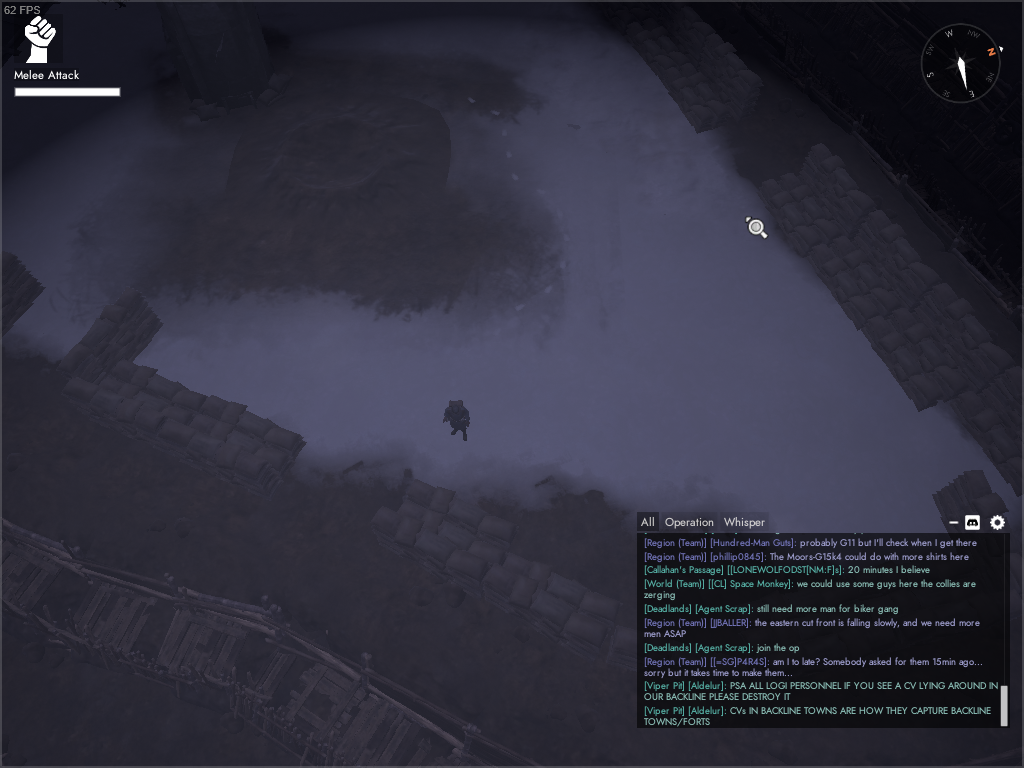observation_tower: (149, 1, 297, 121)
player: (441, 399, 473, 443)
sandbag: (861, 280, 1018, 412), (372, 479, 514, 594), (808, 210, 940, 332), (163, 395, 309, 499), (756, 140, 878, 262), (484, 553, 619, 659), (662, 30, 762, 134), (64, 360, 187, 441), (63, 288, 166, 383), (954, 364, 1024, 499), (932, 468, 1014, 561), (623, 1, 712, 75), (1, 251, 46, 338)
